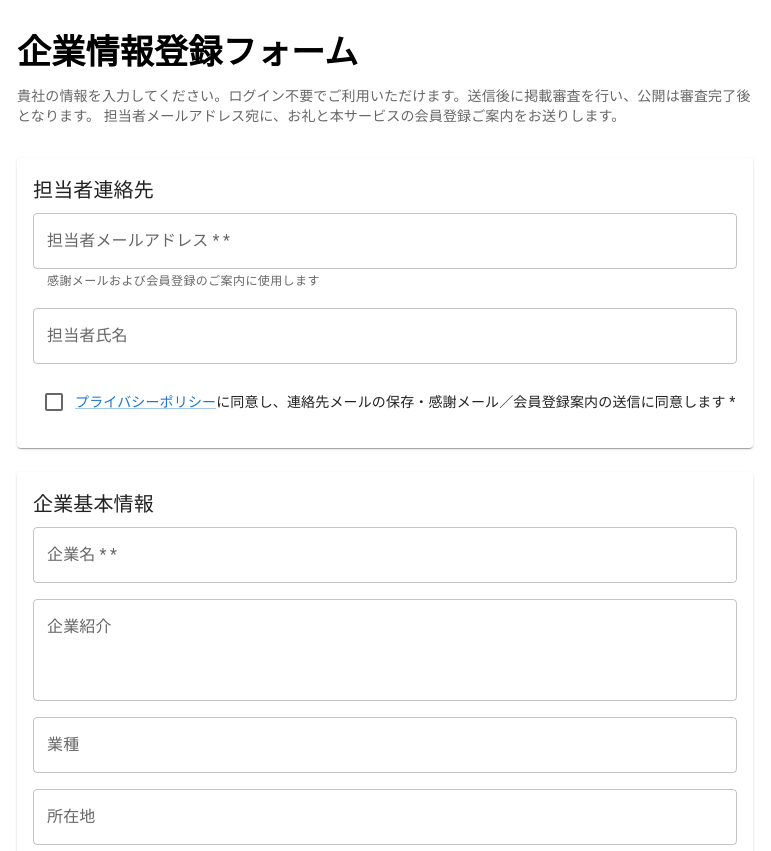
it: CompanyEntryPage › 担当者メールと同意なしでは送信できない
Type "テスト株式会社" into the field labelled "企業名 * *" at {"x": 385, "y": 555}, box [33,527,737,583]
(page scrolled)
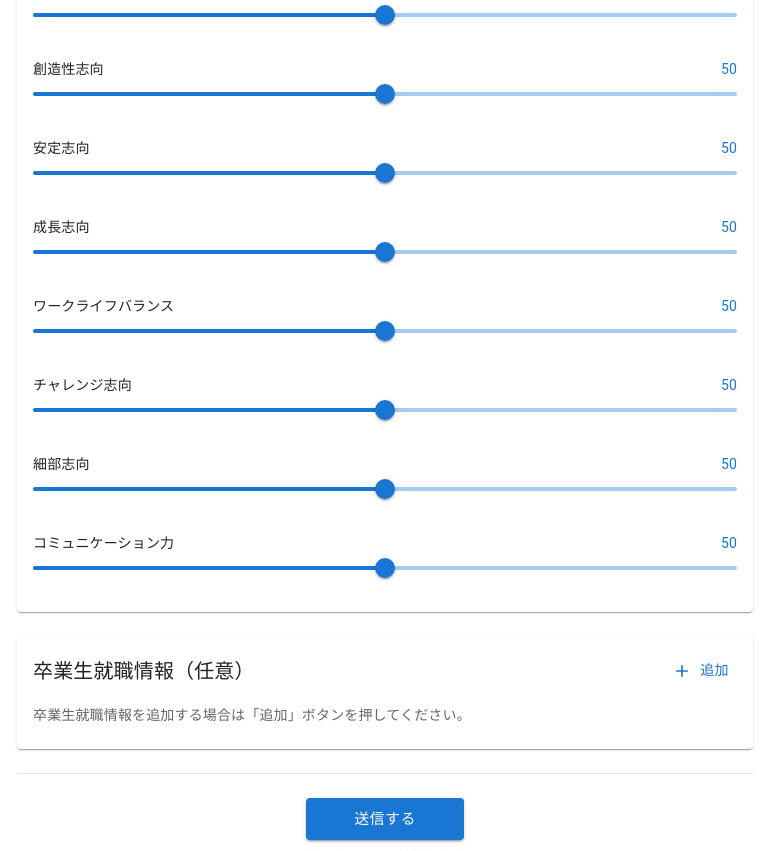
Click the button "送信する" at {"x": 385, "y": 819}, box [306,798,464,840]
(page scrolled)
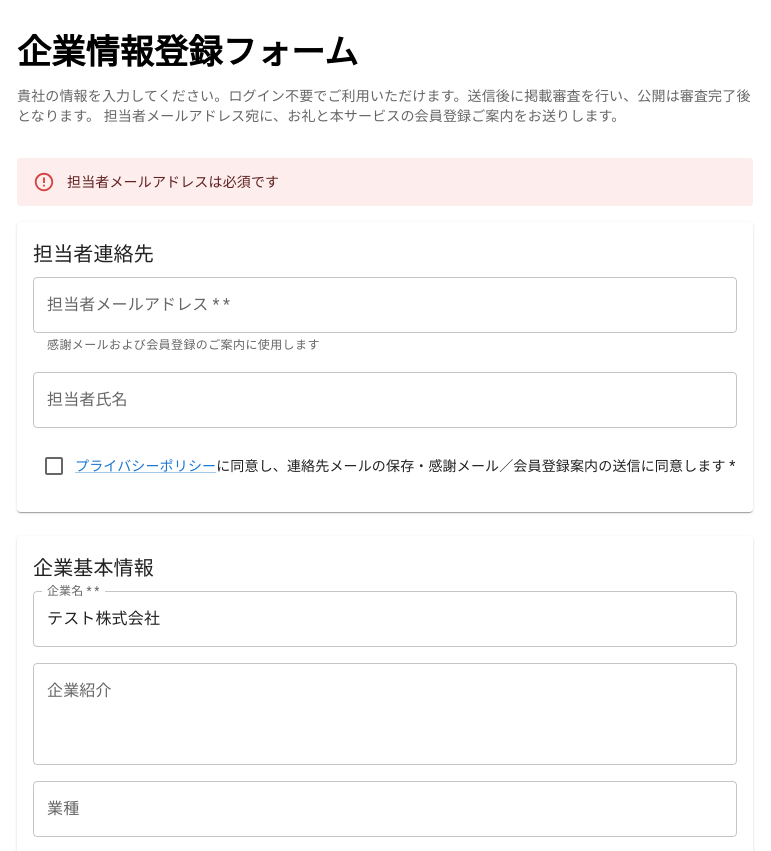
Result: the text "担当者メールアドレスは必須です" is shown at [67,174,279,190]
